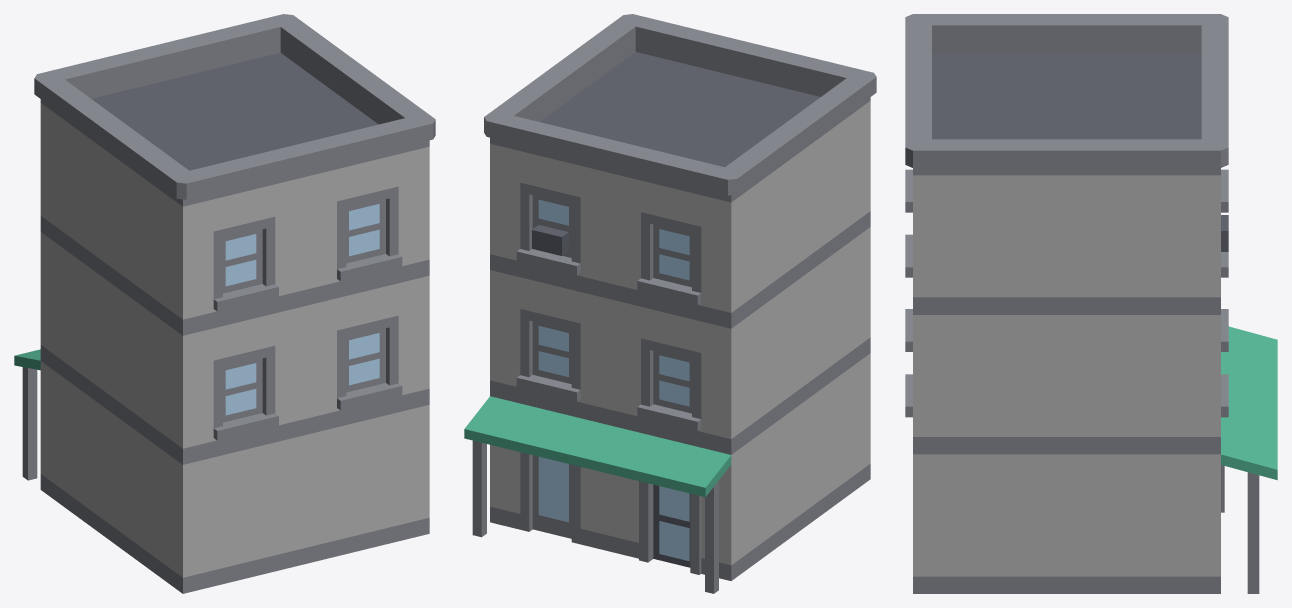
Rendered from small_buildingD.obj.
3 renders of one model, left to right at view 1: azimuth 30°, elevation 25°; view 2: azimuth 150°, elevation 25°; view 3: azimuth 270°, elevation 25°, orthographic. The views are drawn at different scales.
Parts seen in each view (by area): view 1: small_buildingD; view 2: small_buildingD; view 3: small_buildingD.
Part boxes in pixels (box(x1,y1,x2,y2)): small_buildingD: box(14, 14, 435, 593); small_buildingD: box(464, 14, 876, 593); small_buildingD: box(905, 14, 1277, 593).
Bounding box in the file's own units: 0.84 × 1.28 × 0.9679.
